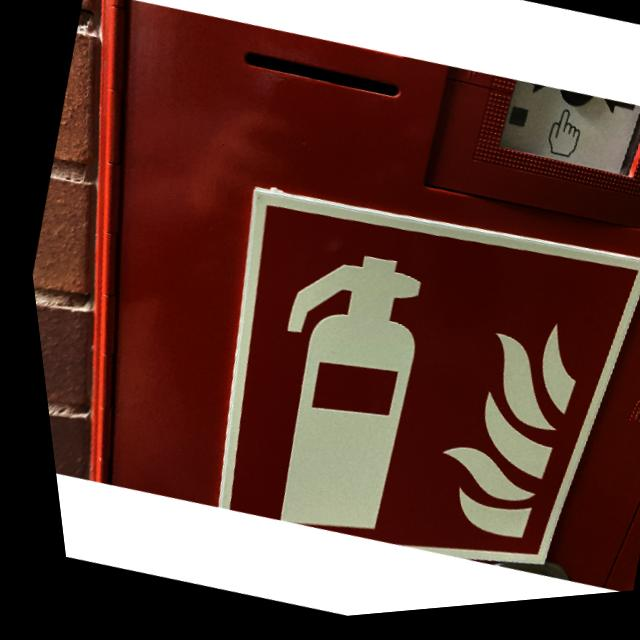fire extinguisher: (153, 155, 640, 621)
